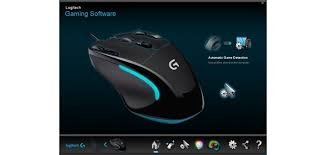mouse: (82, 24, 206, 125)
